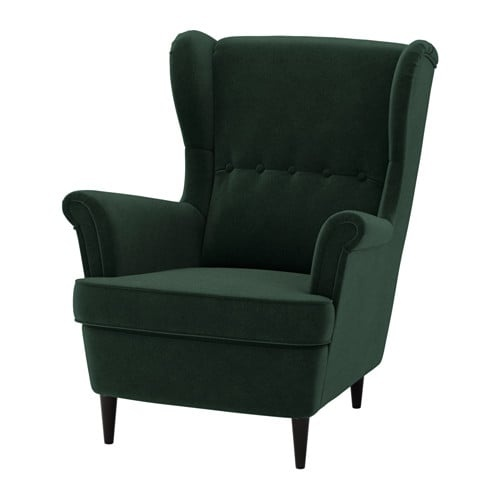obstacle: (63, 31, 437, 467)
